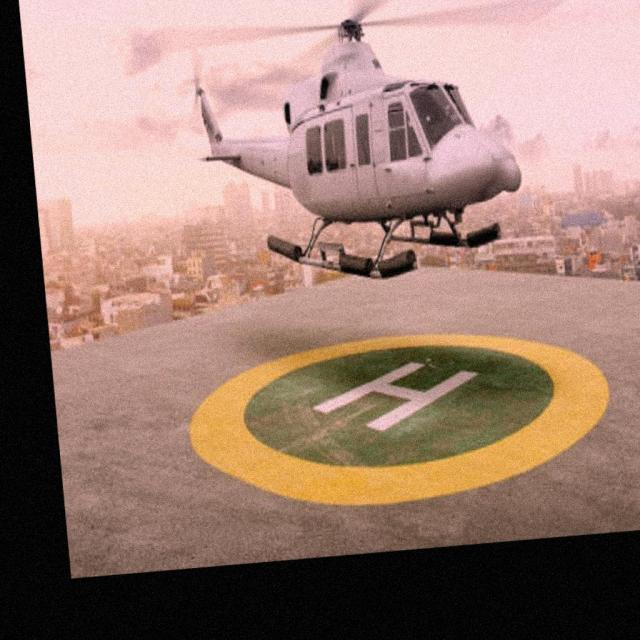helipad: (184, 329, 610, 512)
